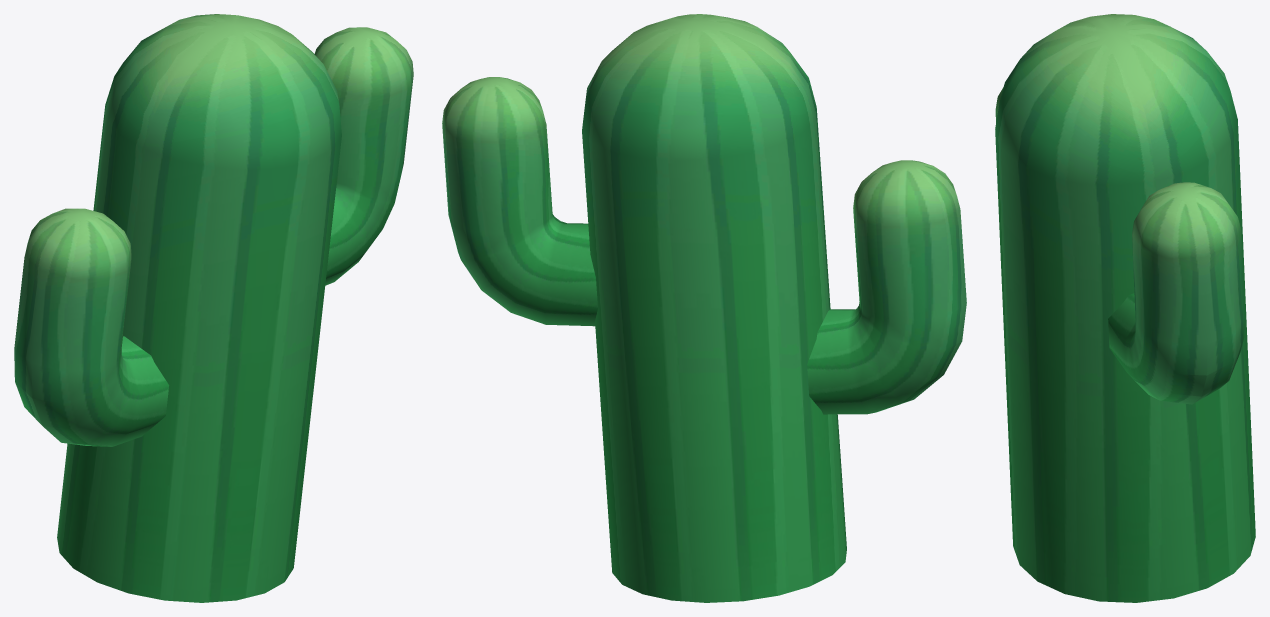
File: cactus.fbx
3 views of the same model, side by side, from view 1: azimuth 30°, elevation 25°; view 2: azimuth 150°, elevation 25°; view 3: azimuth 270°, elevation 25° (orthographic). The views are drawn at different scales.
Visible parts, largest first — view 1: cactus.001; view 2: cactus.001; view 3: cactus.001.
Part boxes in pixels (x1=…): cactus.001: x1=14, y1=14, x2=413, y2=602; cactus.001: x1=442, y1=14, x2=966, y2=602; cactus.001: x1=995, y1=14, x2=1255, y2=602.
Size of the model in its own units: 3.81 by 4.35 by 1.89.
